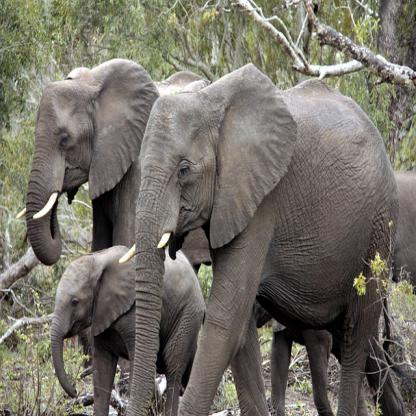elephant: (120, 67, 388, 412), (23, 58, 163, 262), (47, 238, 203, 402)
